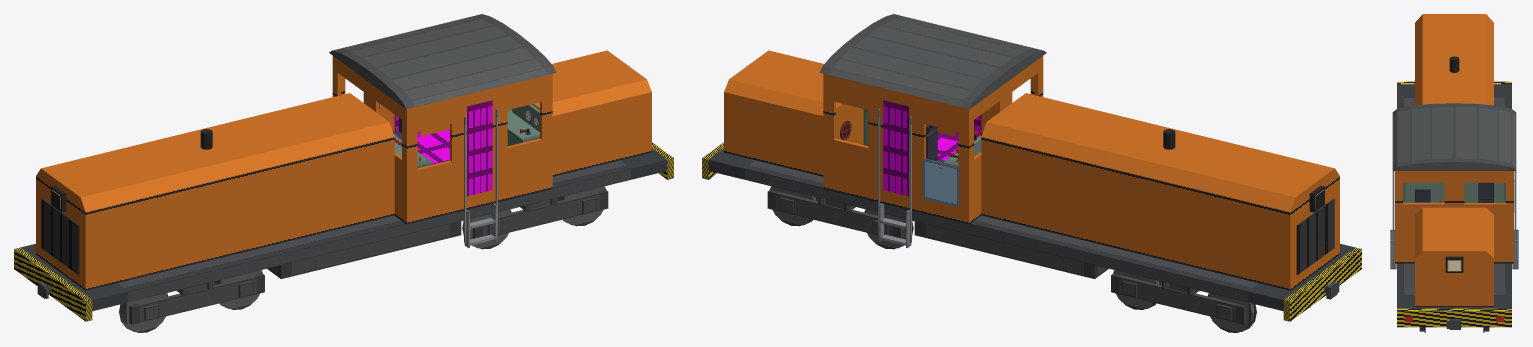
The model's file is shunter.obj.
The picture shows the model from 3 angles, left to right: view 1: azimuth 30°, elevation 25°; view 2: azimuth 150°, elevation 25°; view 3: azimuth 270°, elevation 25°; orthographic projection. The views are drawn at different scales.
Visible parts, largest first — view 1: HOODS, CAB_WALLS, FRAME, CAB_ROOF, BOGEY_FRONT, BOGEY_REAR, GUIDE_DOORWAY_STEPS_LEFT, BUFFER_BEAMS, RADIATOR_GRILLE, INTERIOR_DESKS_LCG_IL, STEPS, GUIDE_FLOOR_0 (+3 smaller); view 2: HOODS, CAB_WALLS, FRAME, CAB_ROOF, BOGEY_FRONT, BOGEY_REAR, GUIDE_DOORWAY_STEPS_RIGHT, BUFFER_BEAMS, RADIATOR_GRILLE, WINDOW_1_INVERT_TL_0.8_Y, STEPS, BOGEY_FRONT_WHEEL_1 (+4 smaller); view 3: HOODS, CAB_ROOF, CAB_WALLS, FRAME, BUFFER_BEAMS, INTERIOR_DESKS_LCG_IL, STEPS, INTERIOR_CHAIRS_LCG_IL, HEADLIGHT_HOUSINGS, HEADLIGHT_2_LCG_RHL_0XFFF2CC, EXHAUST_STACK, COUPLED_REAR_2 (+1 smaller).
Part boxes in pixels (bbox=[...]): HOODS: bbox=[36, 50, 651, 290]; CAB_WALLS: bbox=[332, 56, 552, 224]; FRAME: bbox=[21, 148, 667, 311]; CAB_ROOF: bbox=[329, 14, 556, 109]; BOGEY_FRONT: bbox=[129, 273, 264, 324]; BOGEY_REAR: bbox=[472, 189, 608, 238]; GUIDE_DOORWAY_STEPS_LEFT: bbox=[467, 100, 492, 196]; BUFFER_BEAMS: bbox=[14, 142, 673, 321]; RADIATOR_GRILLE: bbox=[41, 198, 79, 275]; INTERIOR_DESKS_LCG_IL: bbox=[393, 104, 539, 167]; STEPS: bbox=[464, 109, 497, 247]; GUIDE_FLOOR_0: bbox=[417, 129, 449, 164]; HOODS: bbox=[724, 50, 1339, 290]; CAB_WALLS: bbox=[823, 56, 1043, 224]; FRAME: bbox=[708, 148, 1354, 311]; CAB_ROOF: bbox=[819, 14, 1046, 109]; BOGEY_FRONT: bbox=[1111, 273, 1246, 324]; BOGEY_REAR: bbox=[767, 189, 903, 238]; GUIDE_DOORWAY_STEPS_RIGHT: bbox=[883, 100, 908, 196]; BUFFER_BEAMS: bbox=[702, 142, 1361, 321]; RADIATOR_GRILLE: bbox=[1296, 198, 1334, 275]; WINDOW_1_INVERT_TL_0.8_Y: bbox=[922, 158, 958, 207]; STEPS: bbox=[878, 109, 911, 247]; BOGEY_FRONT_WHEEL_1: bbox=[1208, 293, 1256, 332]; HOODS: bbox=[1415, 14, 1493, 306]; CAB_ROOF: bbox=[1392, 103, 1516, 170]; CAB_WALLS: bbox=[1395, 171, 1513, 263]; FRAME: bbox=[1397, 84, 1511, 308]; BUFFER_BEAMS: bbox=[1397, 81, 1511, 327]; INTERIOR_DESKS_LCG_IL: bbox=[1403, 182, 1505, 202]; STEPS: bbox=[1390, 171, 1518, 269]; INTERIOR_CHAIRS_LCG_IL: bbox=[1415, 182, 1493, 202]; HEADLIGHT_HOUSINGS: bbox=[1445, 256, 1463, 272]; HEADLIGHT_2_LCG_RHL_0XFFF2CC: bbox=[1447, 260, 1461, 271]; EXHAUST_STACK: bbox=[1449, 56, 1459, 72]; COUPLED_REAR_2: bbox=[1446, 319, 1460, 329].
Size of what is drawn, in the model's own units: 14.1 by 4.21 by 3.24.
22 materials, 22 textured.
